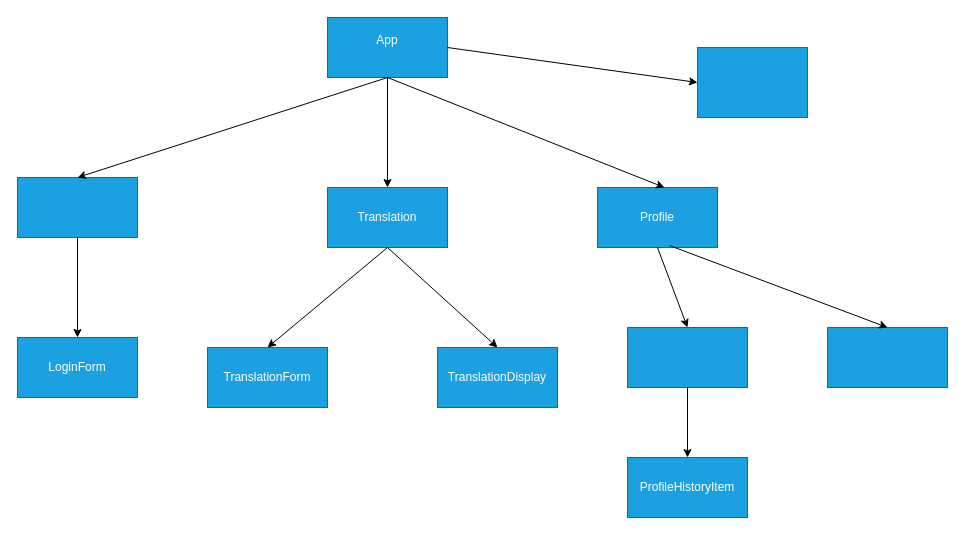
The diagram is 965 pixels wide and 535 high, and some of its shapes have lost their labels. The centre of each missing label's shape, as x and y in pixels:
"Login" goes at point 77,207.
"Navbar" goes at point 752,82.
"ProfileActions" goes at point 887,357.
"ProfileHistory" goes at point 687,357.
